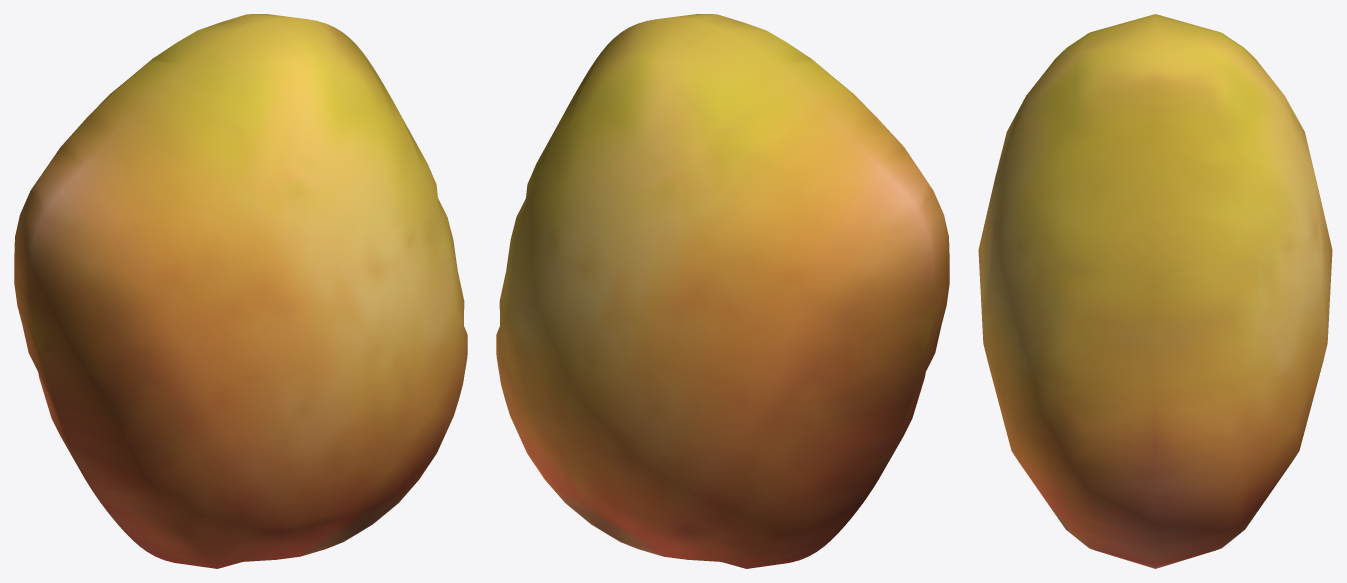
File: Pinton.glb
3 renders of one model, left to right at view 1: azimuth 30°, elevation 25°; view 2: azimuth 150°, elevation 25°; view 3: azimuth 270°, elevation 25°, orthographic. The views are drawn at different scales.
Parts seen in each view (by area): view 1: mm_frame; view 2: mm_frame; view 3: mm_frame.
Part boxes in pixels (x1=…): mm_frame: x1=14, y1=14, x2=467, y2=568; mm_frame: x1=496, y1=14, x2=949, y2=568; mm_frame: x1=978, y1=14, x2=1332, y2=568.
Bounding box in the file's own units: 0.5723 × 0.6889 × 0.4264.
Materials: 1 (1 with a texture image).
